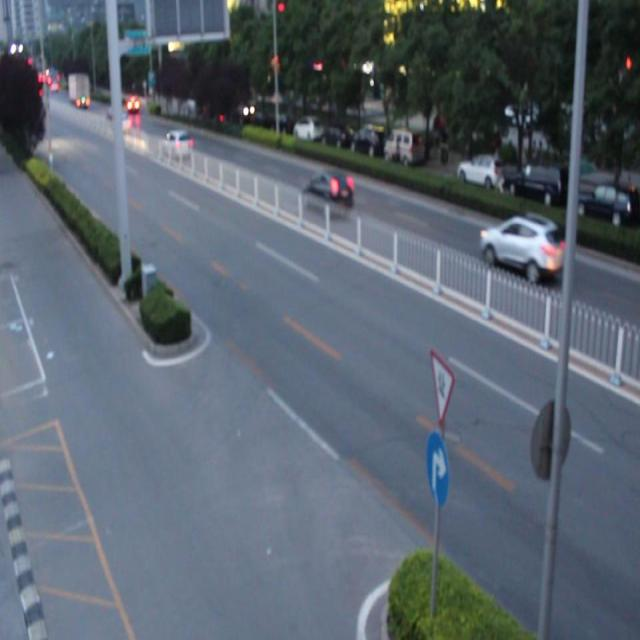car: (479, 212, 566, 282), (301, 171, 354, 219)
